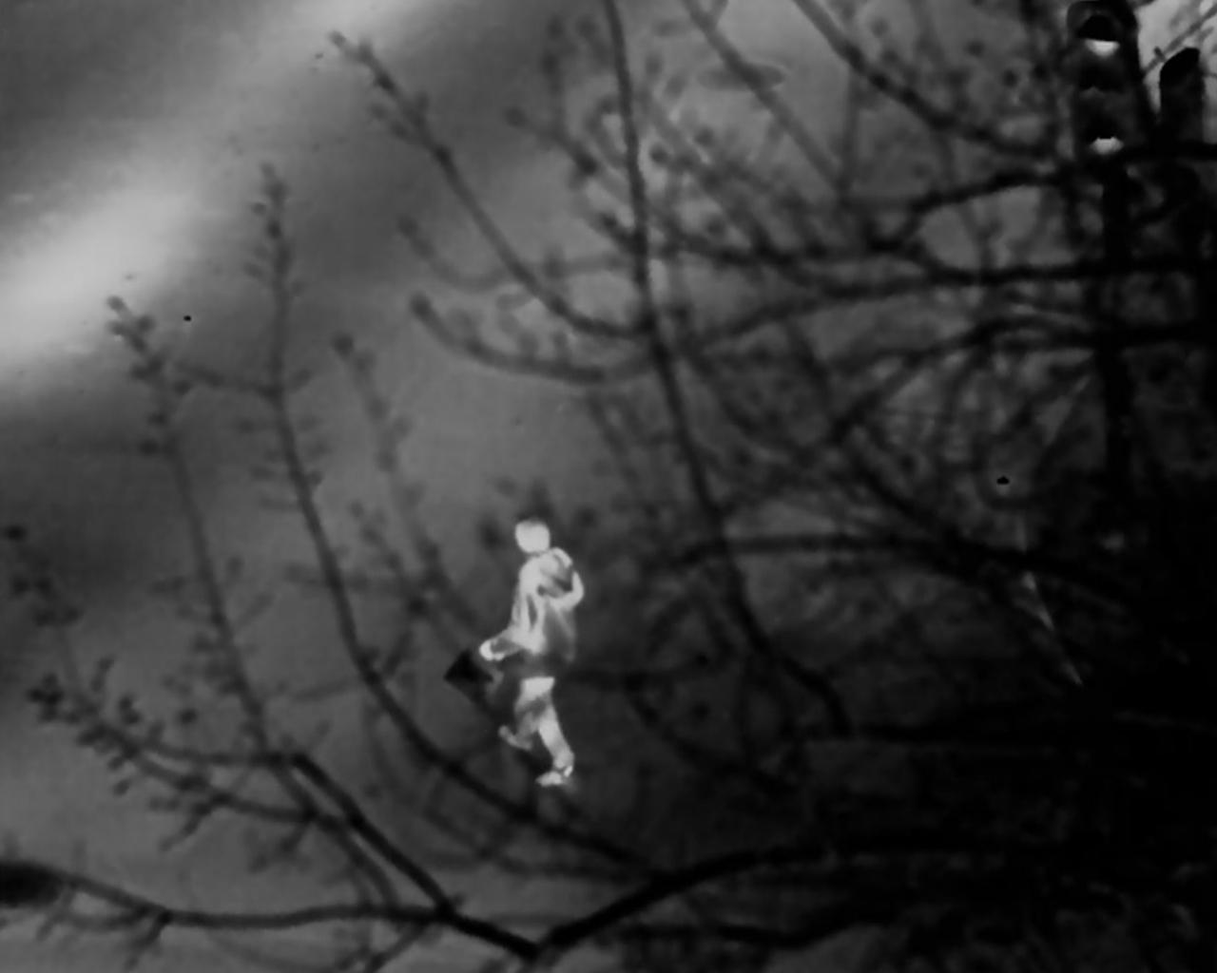person: (492, 515, 588, 793)
